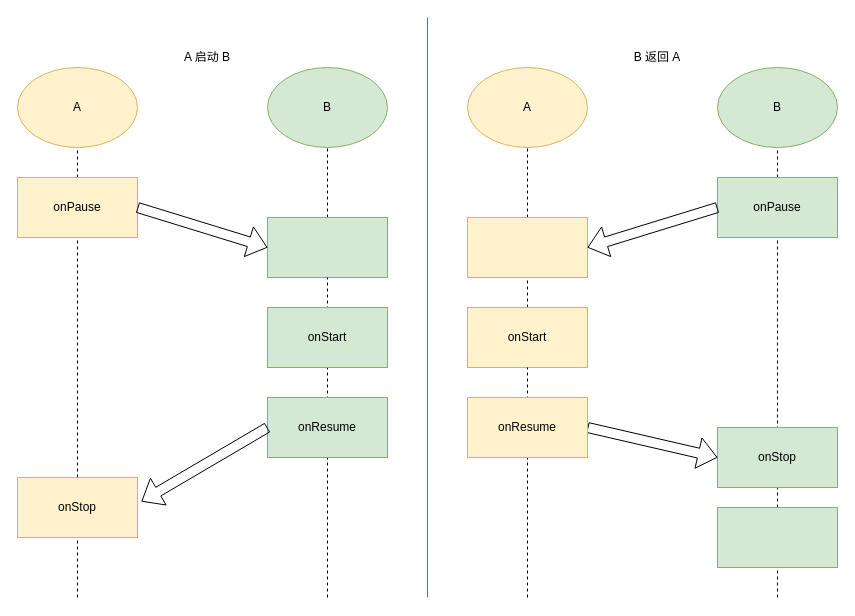
Some shapes in this 855 by 616 pixel diagram are drawn without their labels. The box of each missing label's shape, as (x1, y1, x2, y2) in pixels:
onCreate: (266, 216, 388, 278)
onDestroy: (716, 506, 838, 568)
onRestart: (466, 216, 588, 278)
